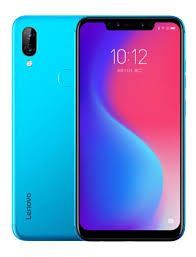lenovo: (9, 11, 187, 243), (73, 13, 187, 242)
